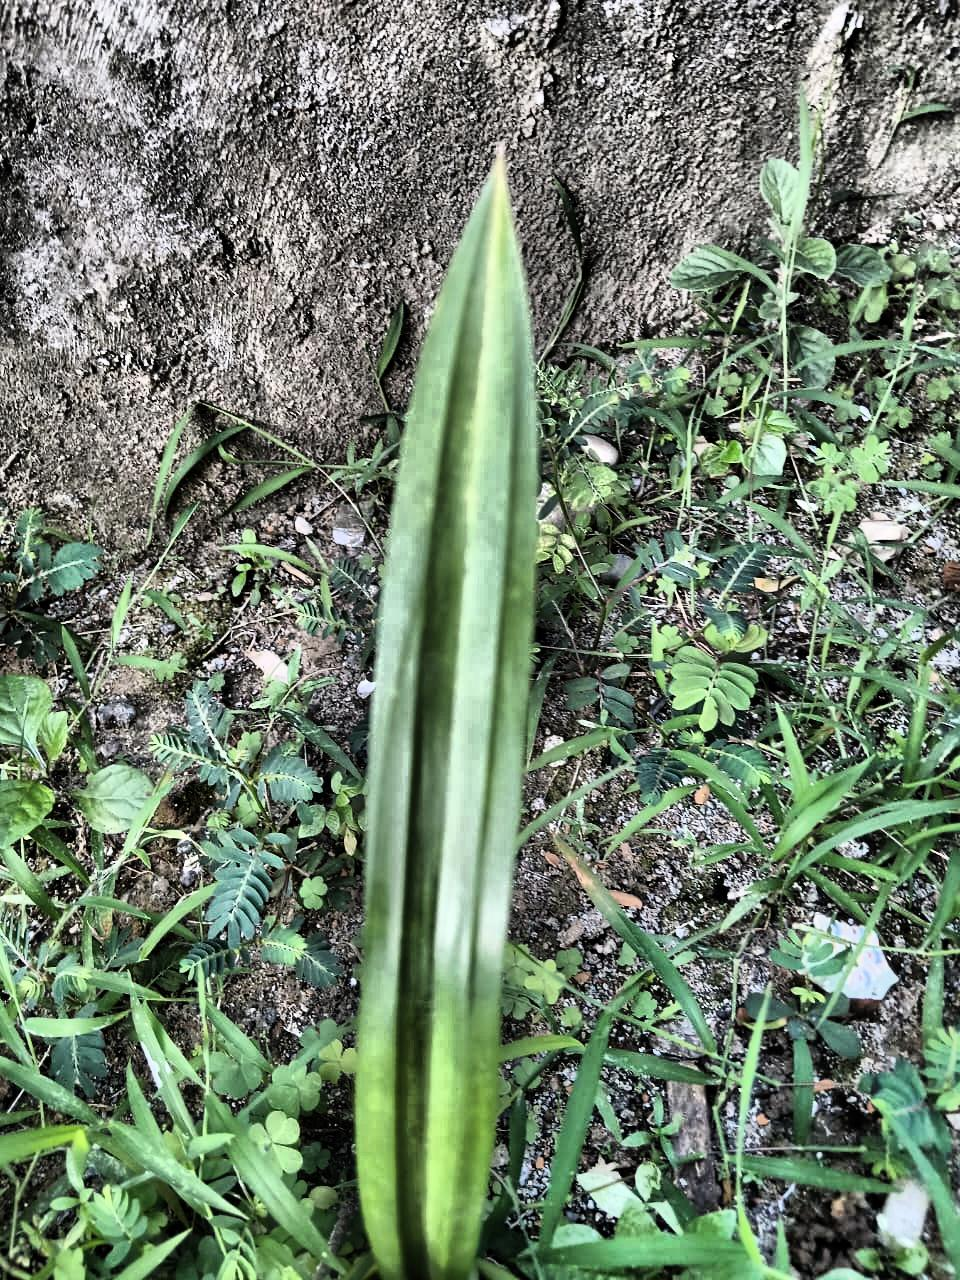daun pandan: (354, 156, 539, 1279)
